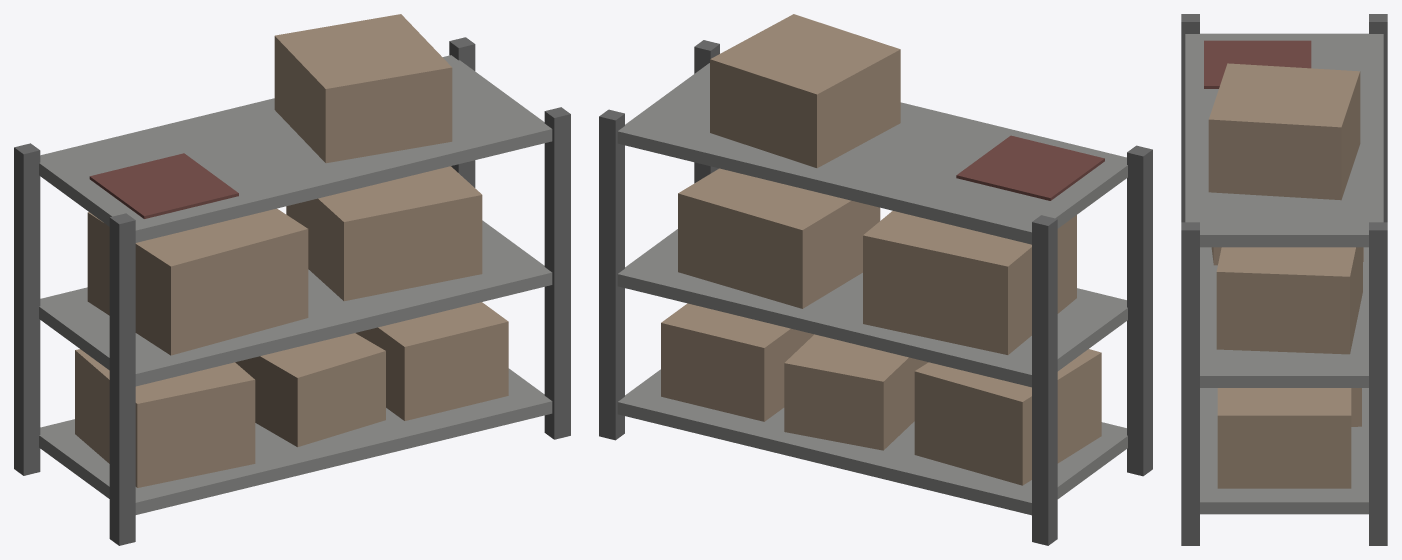
The model's file is oc_industrial_shelf.obj.
3 views of the same model, side by side, from view 1: azimuth 30°, elevation 25°; view 2: azimuth 150°, elevation 25°; view 3: azimuth 270°, elevation 25° (orthographic).
Visible parts, largest first — view 1: oc_industrial_shelf_6, oc_industrial_shelf_10, oc_industrial_shelf_12, oc_industrial_shelf_11, oc_industrial_shelf_5, oc_industrial_shelf_4, oc_industrial_shelf_7, oc_industrial_shelf_9, oc_industrial_shelf_8, oc_industrial_shelf_0, oc_industrial_shelf_1, oc_industrial_shelf_2 (+2 smaller); view 2: oc_industrial_shelf_6, oc_industrial_shelf_12, oc_industrial_shelf_10, oc_industrial_shelf_11, oc_industrial_shelf_5, oc_industrial_shelf_7, oc_industrial_shelf_4, oc_industrial_shelf_9, oc_industrial_shelf_8, oc_industrial_shelf_1, oc_industrial_shelf_0, oc_industrial_shelf_3 (+2 smaller); view 3: oc_industrial_shelf_6, oc_industrial_shelf_12, oc_industrial_shelf_11, oc_industrial_shelf_9, oc_industrial_shelf_5, oc_industrial_shelf_4, oc_industrial_shelf_2, oc_industrial_shelf_3, oc_industrial_shelf_13, oc_industrial_shelf_0, oc_industrial_shelf_1, oc_industrial_shelf_8.
Boxes of the visible parts, <box> form: oc_industrial_shelf_6: <box>39,55,552,242</box>; oc_industrial_shelf_10: <box>87,208,308,355</box>; oc_industrial_shelf_12: <box>274,14,452,163</box>; oc_industrial_shelf_11: <box>286,166,482,301</box>; oc_industrial_shelf_5: <box>39,220,552,386</box>; oc_industrial_shelf_4: <box>39,368,552,514</box>; oc_industrial_shelf_7: <box>75,349,255,487</box>; oc_industrial_shelf_9: <box>355,302,508,420</box>; oc_industrial_shelf_8: <box>235,333,385,447</box>; oc_industrial_shelf_0: <box>109,213,135,545</box>; oc_industrial_shelf_1: <box>14,143,40,475</box>; oc_industrial_shelf_2: <box>544,107,570,439</box>; oc_industrial_shelf_6: <box>617,63,1127,244</box>; oc_industrial_shelf_12: <box>710,14,900,168</box>; oc_industrial_shelf_10: <box>863,211,1076,354</box>; oc_industrial_shelf_11: <box>678,168,880,308</box>; oc_industrial_shelf_5: <box>617,229,1127,387</box>; oc_industrial_shelf_7: <box>914,349,1101,485</box>; oc_industrial_shelf_4: <box>617,369,1127,515</box>; oc_industrial_shelf_9: <box>661,303,813,421</box>; oc_industrial_shelf_8: <box>784,334,928,450</box>; oc_industrial_shelf_1: <box>1032,215,1057,545</box>; oc_industrial_shelf_0: <box>1127,145,1152,476</box>; oc_industrial_shelf_3: <box>599,109,624,440</box>; oc_industrial_shelf_6: <box>1185,33,1383,247</box>; oc_industrial_shelf_12: <box>1208,63,1360,200</box>; oc_industrial_shelf_11: <box>1216,247,1362,354</box>; oc_industrial_shelf_9: <box>1217,388,1351,488</box>; oc_industrial_shelf_5: <box>1200,247,1368,387</box>; oc_industrial_shelf_4: <box>1200,388,1368,514</box>; oc_industrial_shelf_2: <box>1181,222,1199,545</box>; oc_industrial_shelf_3: <box>1369,222,1387,545</box>; oc_industrial_shelf_13: <box>1204,40,1311,88</box>; oc_industrial_shelf_0: <box>1181,14,1199,222</box>; oc_industrial_shelf_1: <box>1369,14,1387,222</box>; oc_industrial_shelf_8: <box>1351,388,1361,426</box>.
Bounding box in the file's own units: 1.91 × 1.55 × 0.77.
